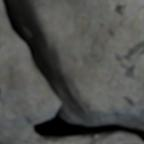broken_brick: (34, 0, 143, 127), (0, 0, 59, 129)
crack: (2, 0, 143, 143)
